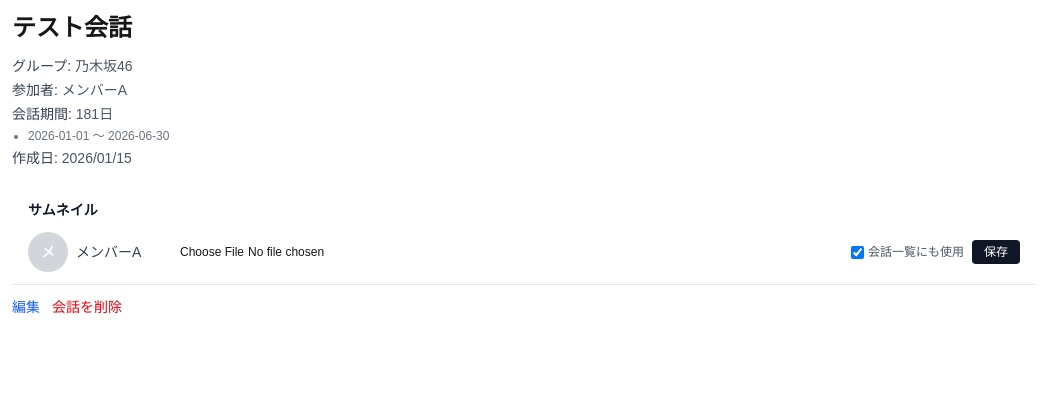
Test: ConversationActions › switches to edit form when edit button is clicked
Click the button "編集" at (26, 307), box [12,297,40,317]
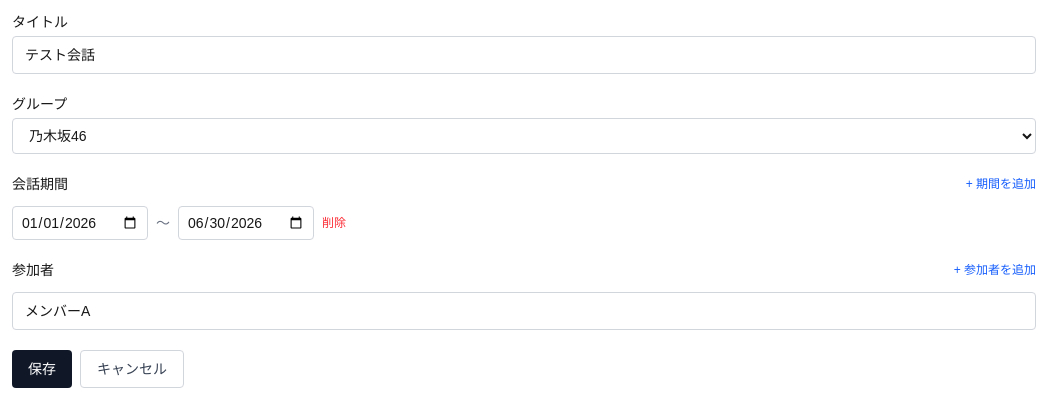
Now the field labelled "タイトル" is shown, box [12,36,1036,74]
Now the dropdown labelled "グループ" is shown, box [12,118,1036,154]
Now the button "キャンセル" is shown, box [80,350,184,388]
